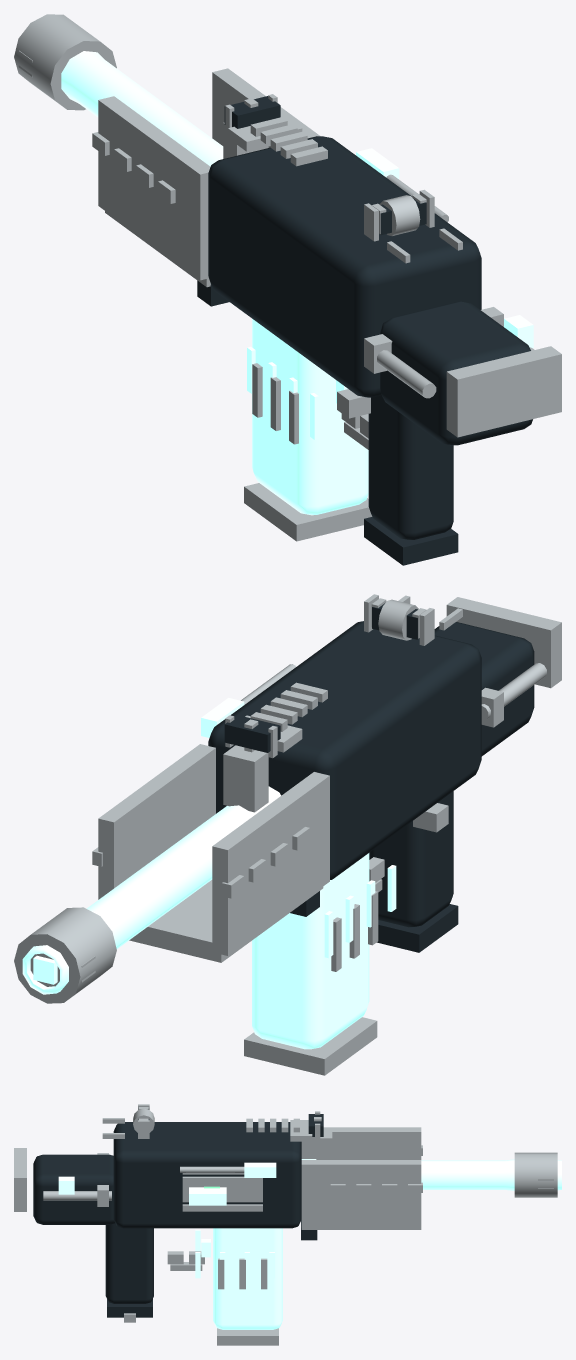
File: weapon-9.glb
The picture shows the model from 3 angles, top to bottom: view 1: azimuth 30°, elevation 25°; view 2: azimuth 150°, elevation 25°; view 3: azimuth 270°, elevation 25°; orthographic projection. The views are drawn at different scales.
Parts seen in each view (by area): view 1: WorldBatch0, WorldBatch2, WorldBatch1; view 2: WorldBatch2, WorldBatch0, WorldBatch1; view 3: WorldBatch0, WorldBatch2, WorldBatch1.
Boxes of the visible parts, x1=… form: WorldBatch0: x1=197, y1=96, x2=532, y2=565; WorldBatch2: x1=14, y1=14, x2=561, y2=541; WorldBatch1: x1=61, y1=51, x2=533, y2=515; WorldBatch2: x1=14, y1=594, x2=561, y2=1075; WorldBatch0: x1=208, y1=603, x2=534, y2=952; WorldBatch1: x1=22, y1=698, x2=396, y2=1049; WorldBatch0: x1=33, y1=1109, x2=323, y2=1317; WorldBatch2: x1=14, y1=1104, x2=557, y2=1345; WorldBatch1: x1=58, y1=1159, x2=561, y2=1329.
Size of the model in its own units: 0.203 by 0.457 by 1.02.
